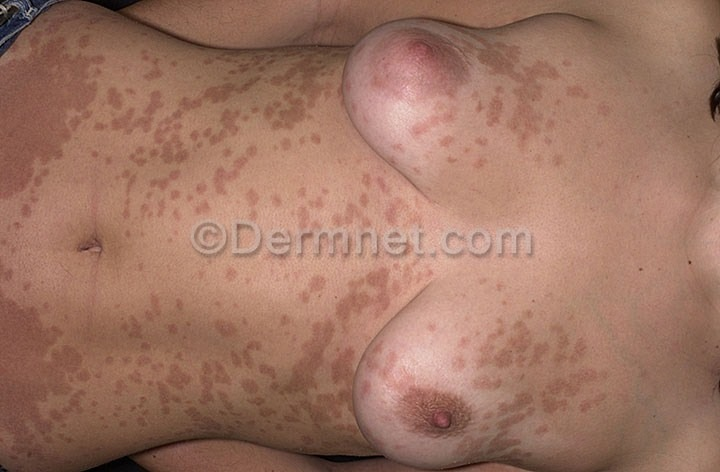Psoriasis: (129, 52, 339, 215), (146, 300, 353, 442), (457, 295, 605, 462), (456, 39, 599, 169), (3, 40, 111, 209), (3, 281, 107, 445), (317, 255, 445, 326), (321, 160, 437, 228)
